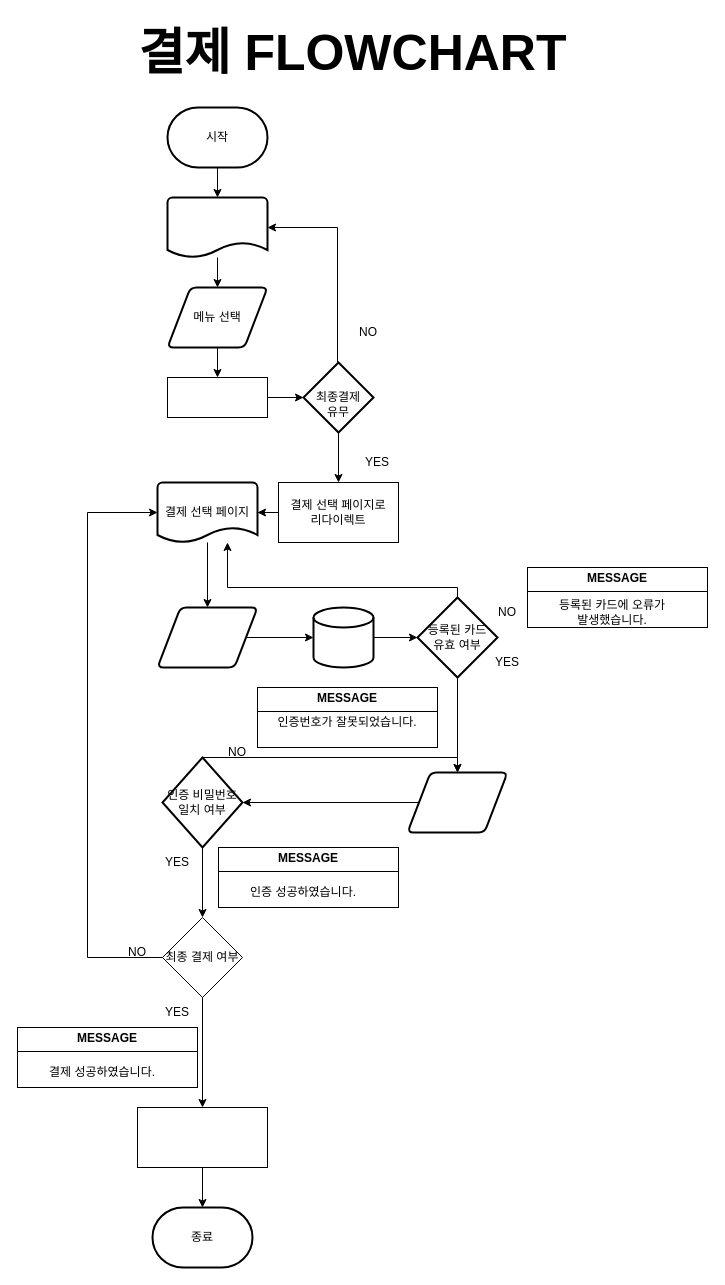
This 725x1285 diagram has some shape labels left out. Here are the shapes that lost their labels. From the top down, the centre of each, then its label:
At (x=217, y=227): "메뉴 선택 페이지".
At (x=217, y=397): "장바구니 담기".
At (x=207, y=637): "결제 수단 선택".
At (x=343, y=637): "사용자 DB".
At (x=457, y=802): "인증 비밀번호 입력".
At (x=202, y=1137): "배달 예상 시간 페이지로 리다이렉트".
